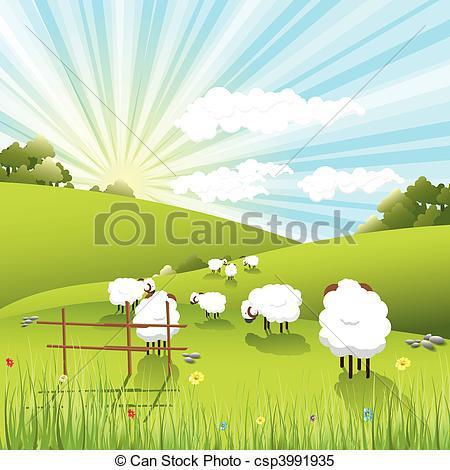sheep: (309, 273, 395, 388), (128, 288, 189, 357), (232, 283, 305, 335), (98, 272, 156, 316), (179, 282, 228, 326)
